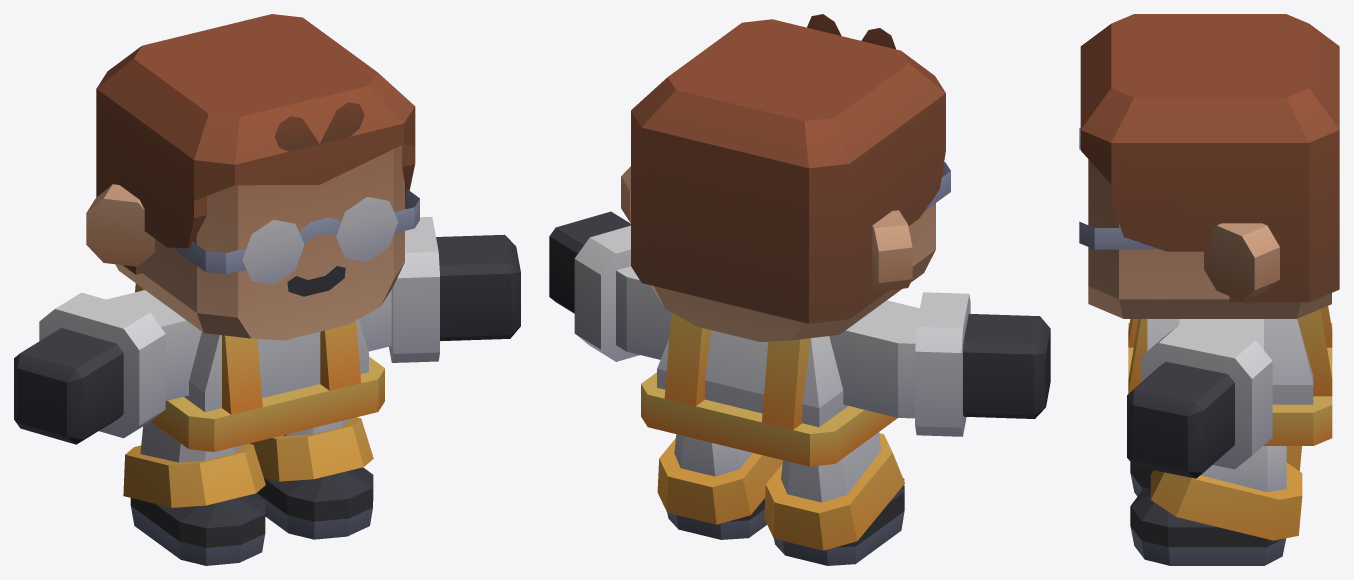
Rendered from citizen-male-e.glb.
3 renders of one model, left to right at view 1: azimuth 30°, elevation 25°; view 2: azimuth 150°, elevation 25°; view 3: azimuth 270°, elevation 25°, orthographic. The views are drawn at different scales.
Parts seen in each view (by area): view 1: citizen-male-e; view 2: citizen-male-e; view 3: citizen-male-e.
Boxes of the visible parts, x1,y1,x2,y2 form: citizen-male-e: (14,14,520,565); citizen-male-e: (549,14,1050,565); citizen-male-e: (1079,14,1339,565).
Size of the model in its own units: 1.13 by 1 by 0.5058.
